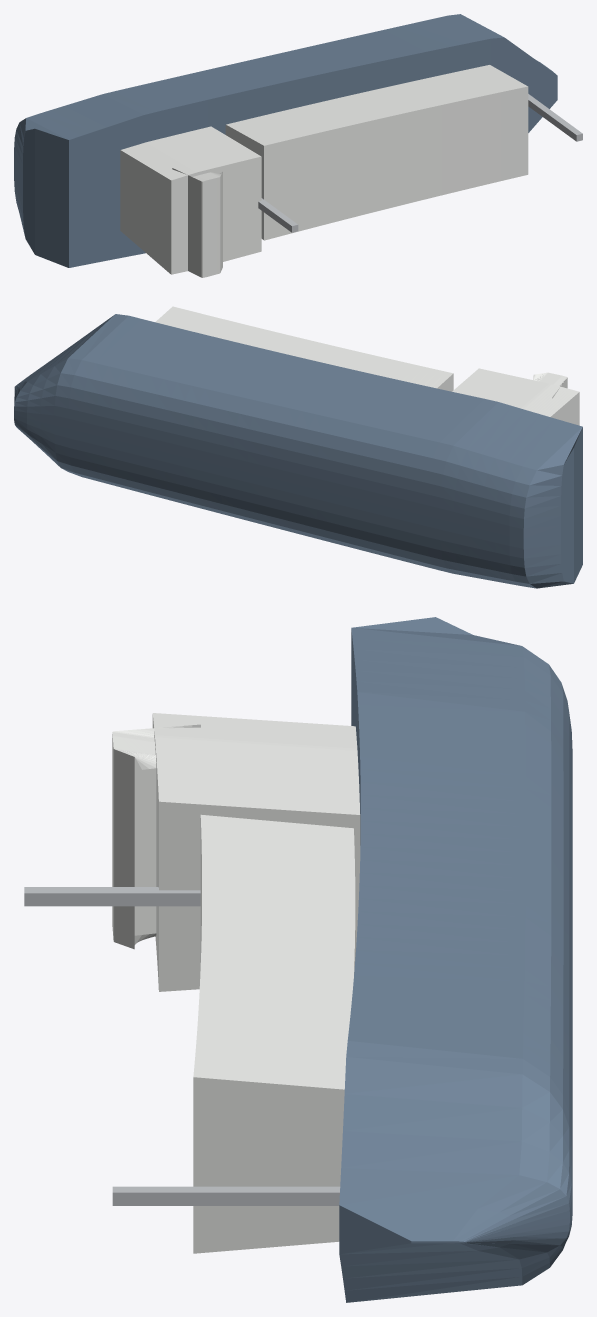
The model's file is container-ship-loft-highside.glb.
3 renders of one model, top to bottom at view 1: azimuth 30°, elevation 25°; view 2: azimuth 150°, elevation 25°; view 3: azimuth 270°, elevation 25°, orthographic. The views are drawn at different scales.
Parts seen in each view (by area): view 1: container-ship-loft-highside; view 2: container-ship-loft-highside; view 3: container-ship-loft-highside.
Boxes of the visible parts, x1,y1,x2,y2 form: container-ship-loft-highside: (14,14,582,277); container-ship-loft-highside: (14,306,582,588); container-ship-loft-highside: (24,617,572,1302).
Size of the model in its own units: 1.95 by 0.5049 by 0.9053.
